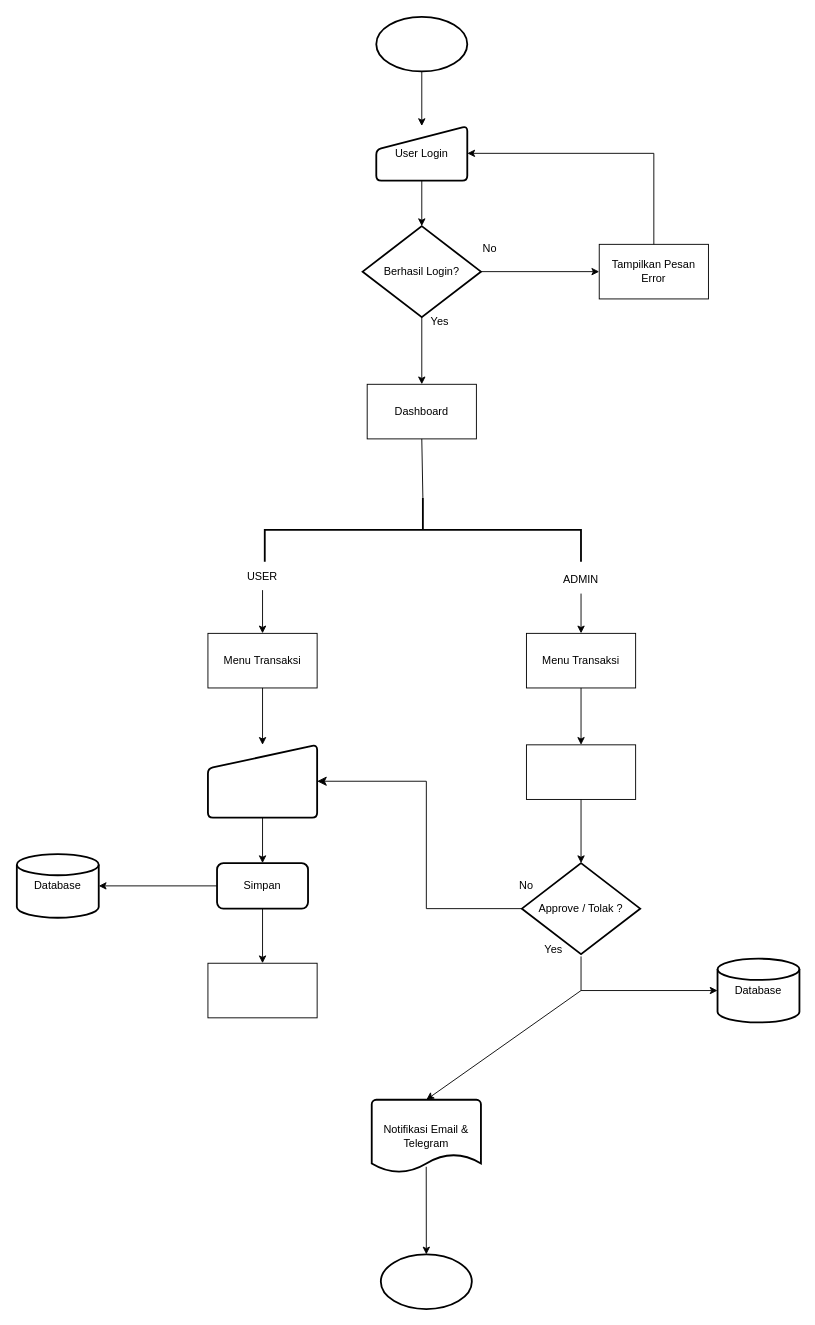
Some shapes in this 815 by 1325 pixel diagram are drawn without their labels. The centre of each missing label's shape, as x and y in pixels:
"Input Barang Masuk / Keluar" goes at [262,780].
"Lihat Permintaan Approval" goes at [581,771].
"Menunggu Approval Admin" goes at [262,990].
"SELESAI" goes at [425,1281].
"START" goes at [421,43].
